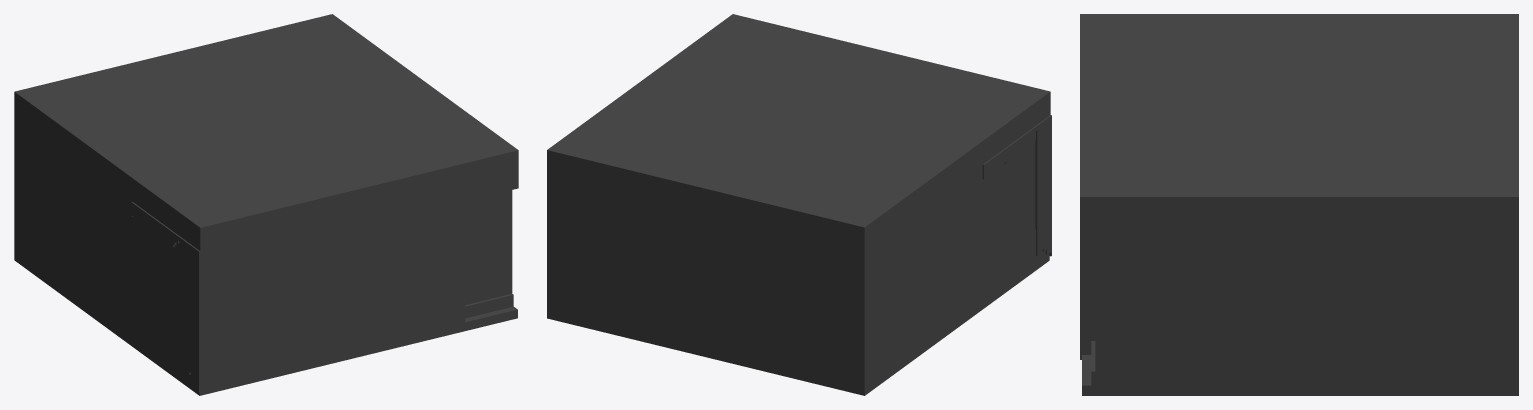
The model's file is Place_4.obj.
3 views of the same model, side by side, from view 1: azimuth 30°, elevation 25°; view 2: azimuth 150°, elevation 25°; view 3: azimuth 270°, elevation 25° (orthographic). The views are drawn at different scales.
Bounding box in the file's own units: 22.8 × 11.5 × 23.
1 material, 1 textured.
